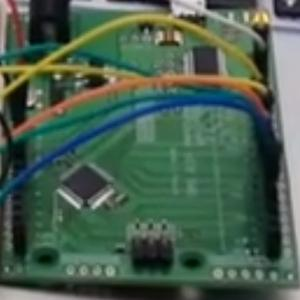duino: (2, 14, 297, 281)
